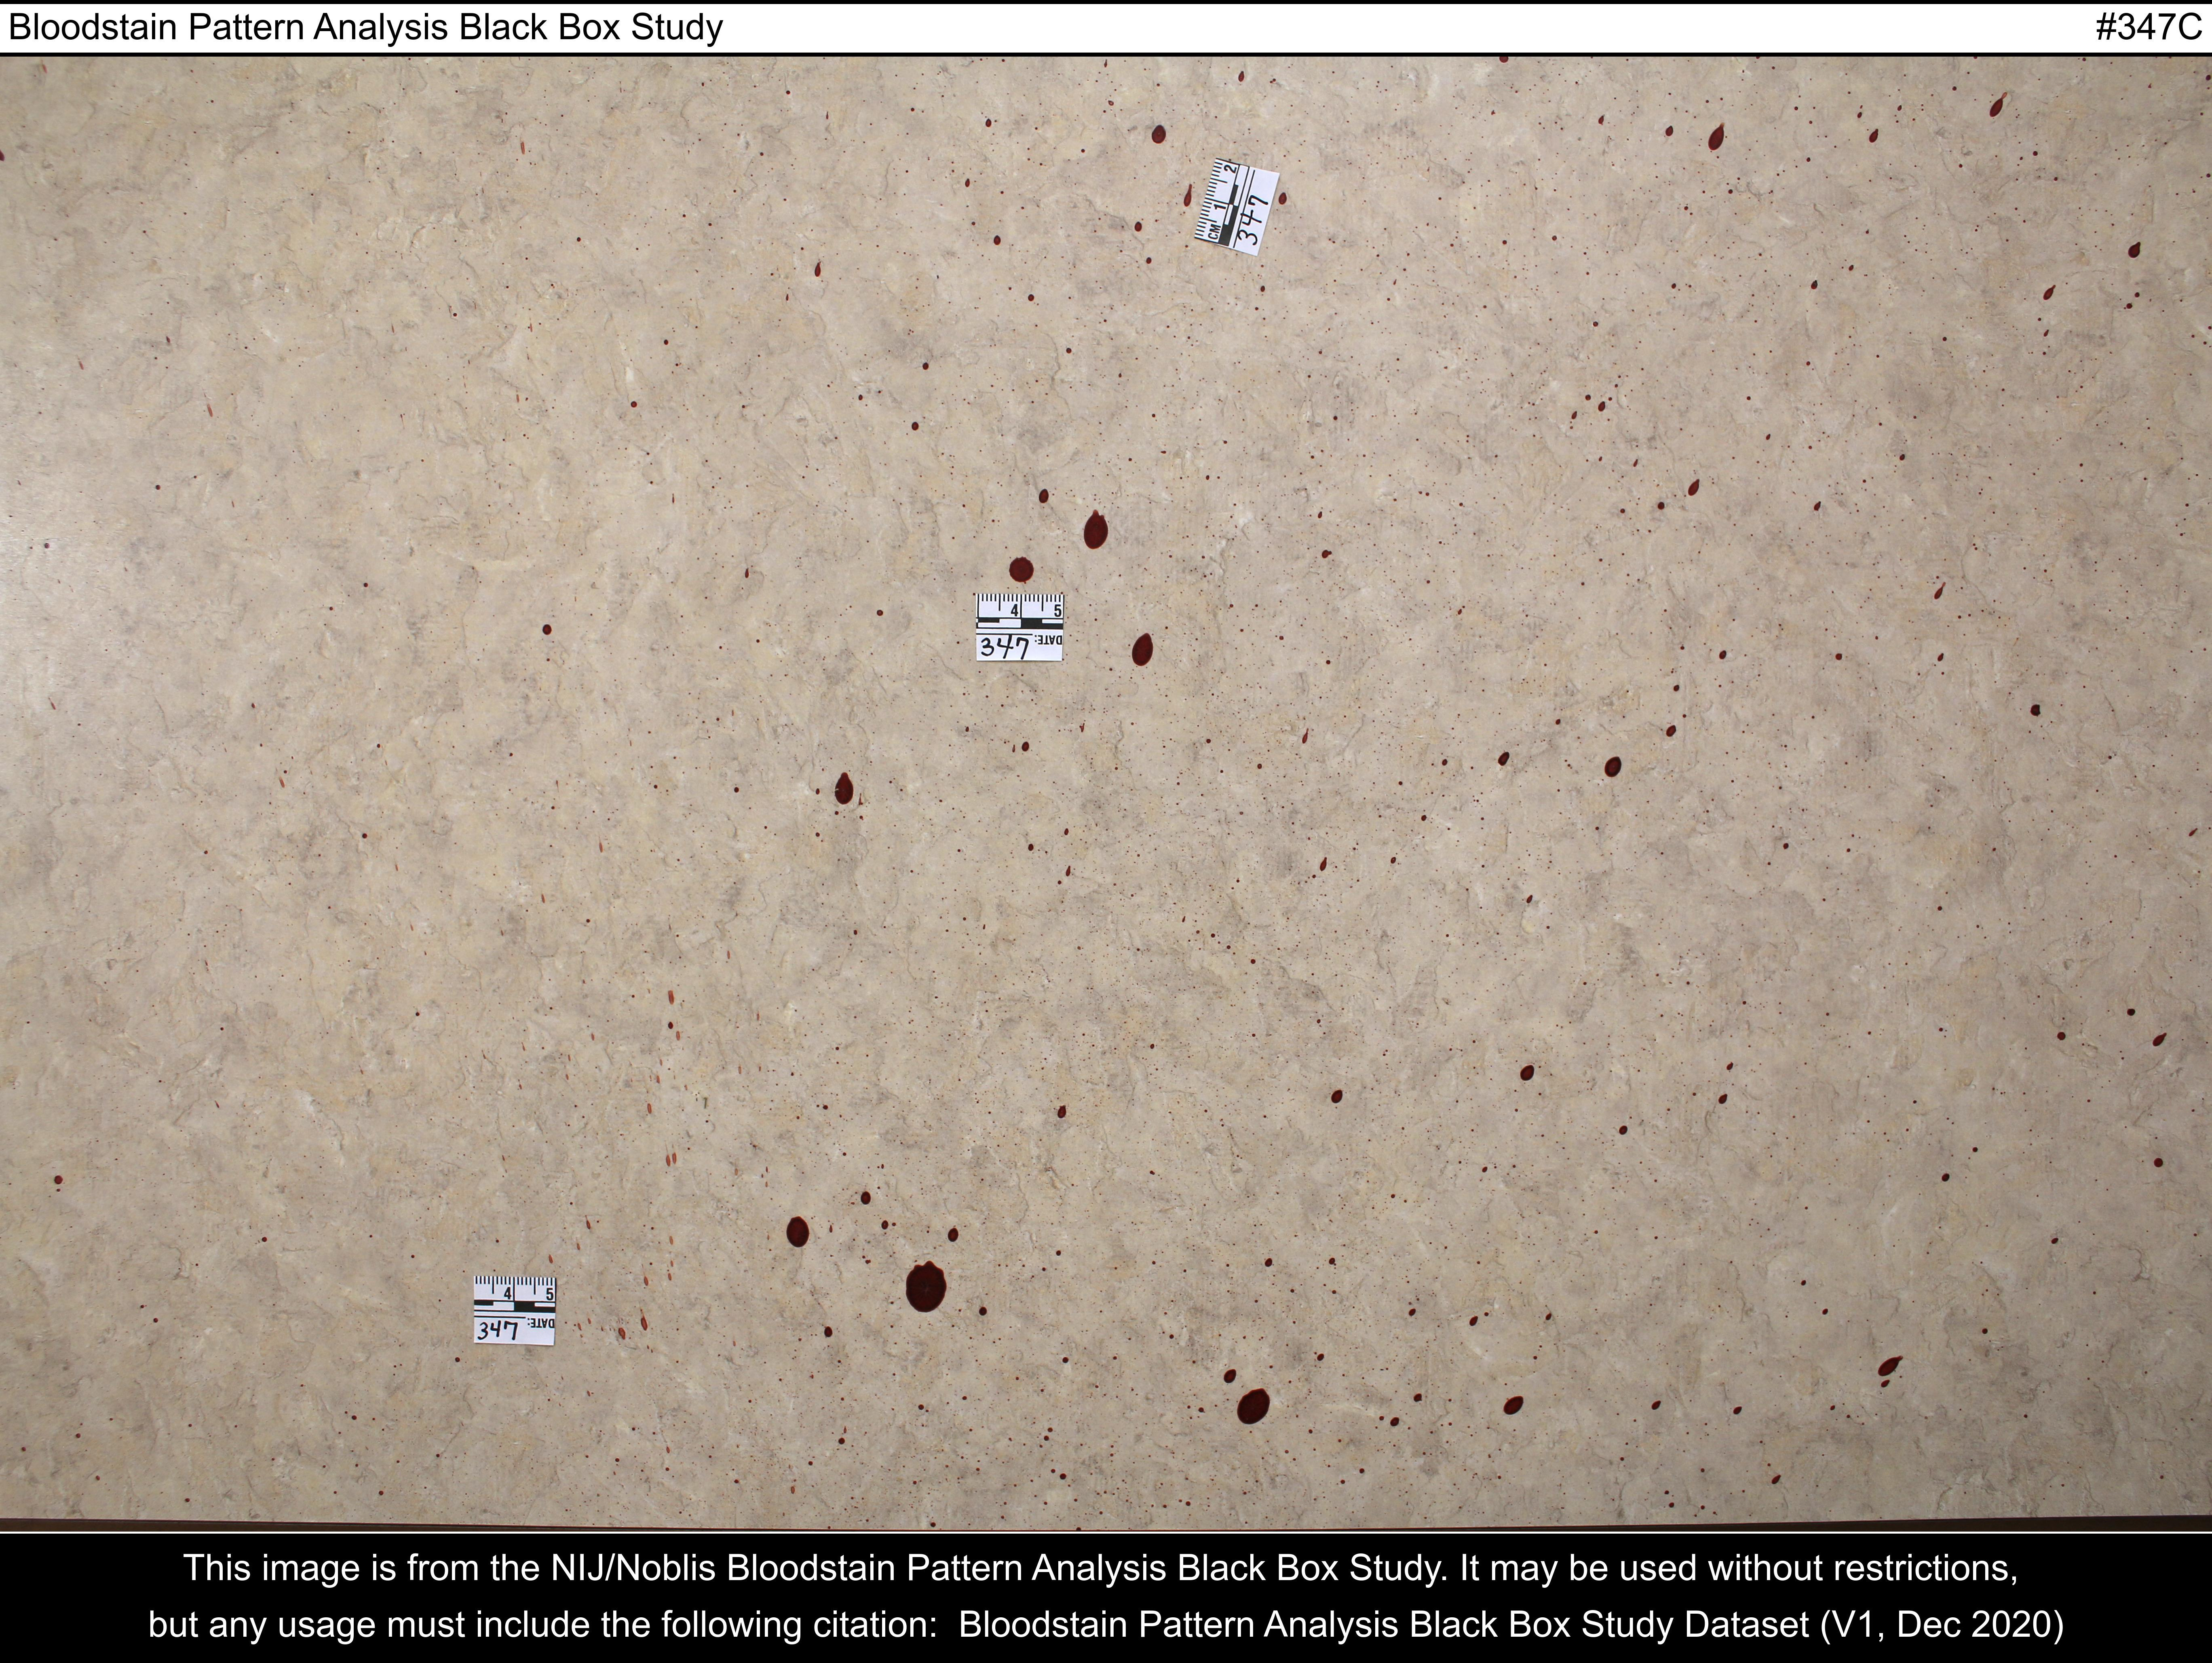Impact: (368, 56, 2212, 1520)
